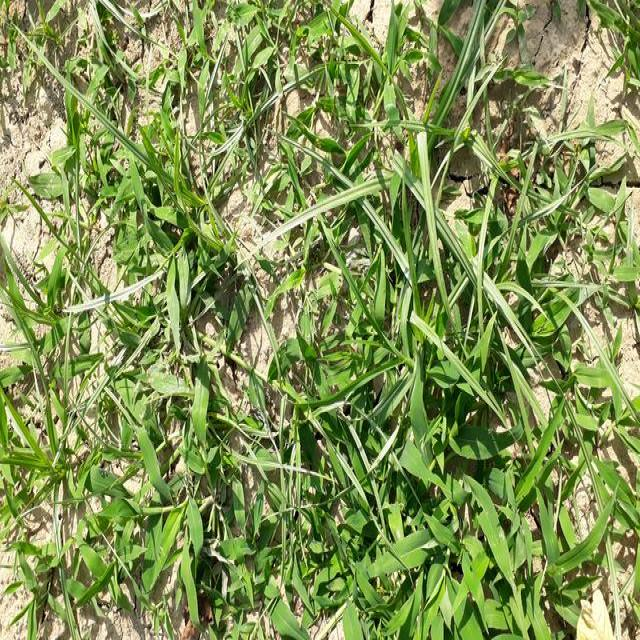weed: (328, 45, 564, 640), (18, 36, 224, 640), (219, 100, 340, 638), (573, 333, 640, 548), (210, 0, 346, 97), (570, 132, 640, 315)
